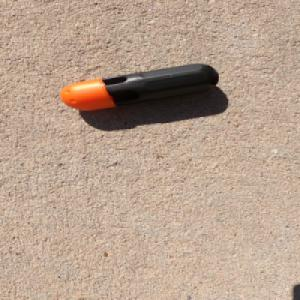PlasticPart: (59, 61, 220, 111)
